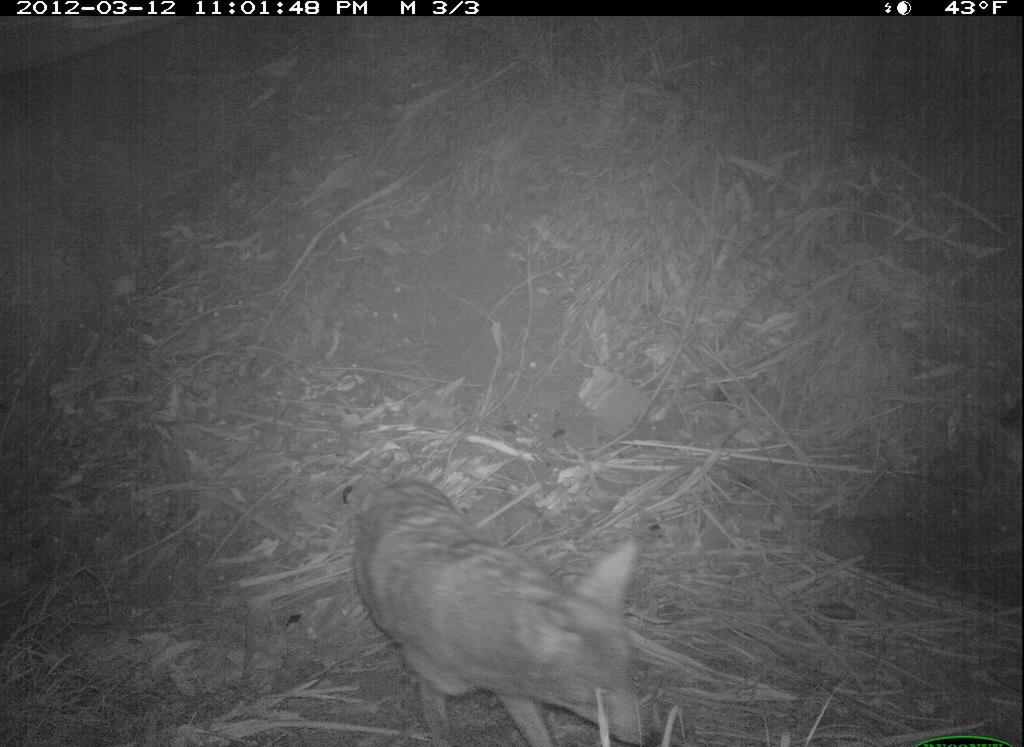coyote: (329, 454, 665, 745)
